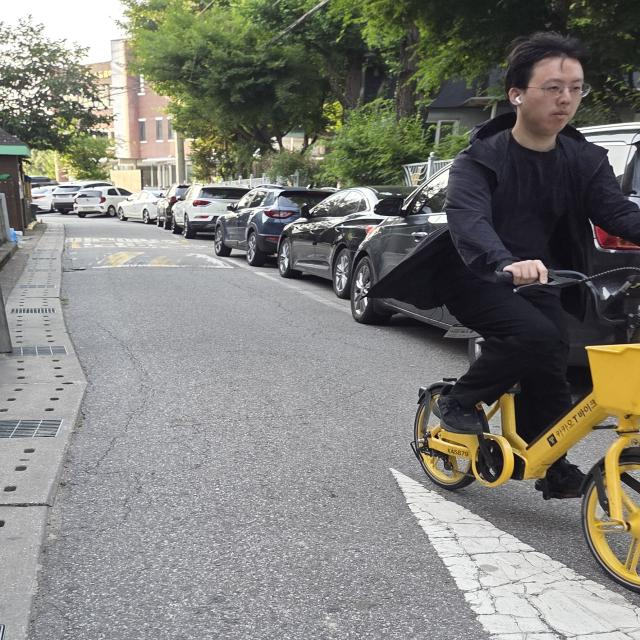bicycle: (379, 34, 640, 592)
car: (341, 120, 640, 336), (270, 166, 428, 295), (217, 184, 339, 264), (164, 173, 248, 243), (70, 185, 132, 218)
